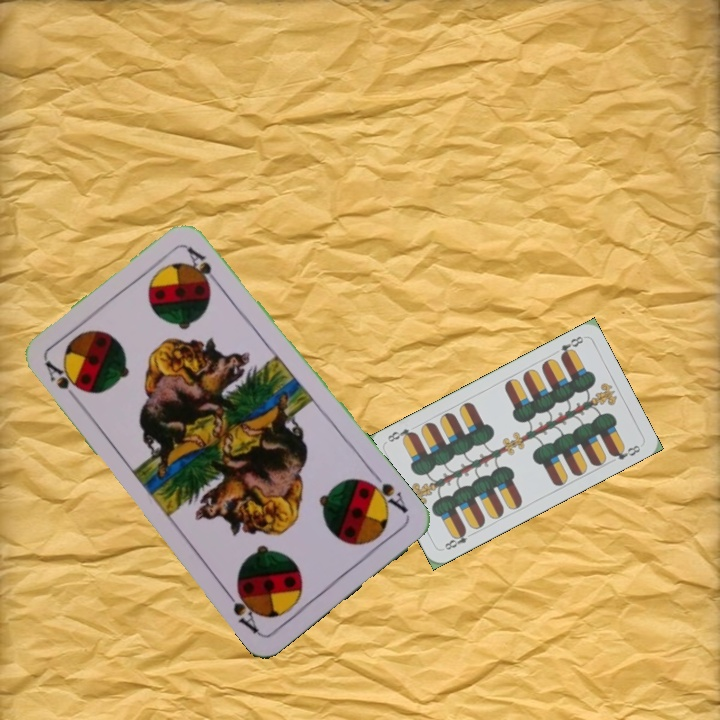E8: (440, 526, 477, 553), (556, 332, 586, 361)
SA: (360, 468, 411, 516), (40, 356, 85, 407)
